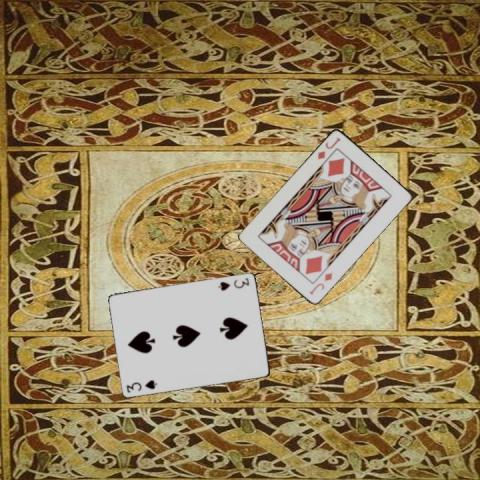3s: (215, 275, 251, 292), (123, 377, 159, 393)
Jd: (314, 134, 342, 161), (306, 269, 333, 296)
